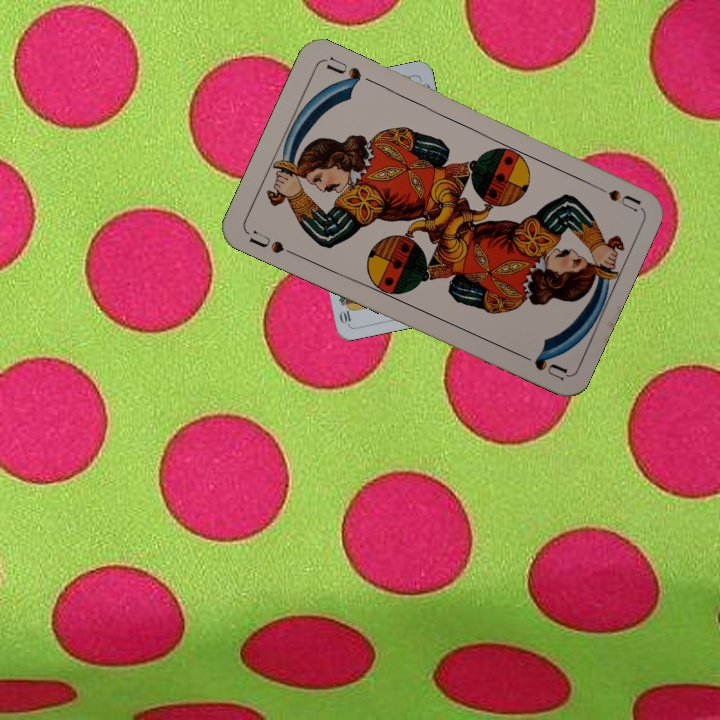SU: (585, 178, 642, 214), (245, 228, 300, 259)
